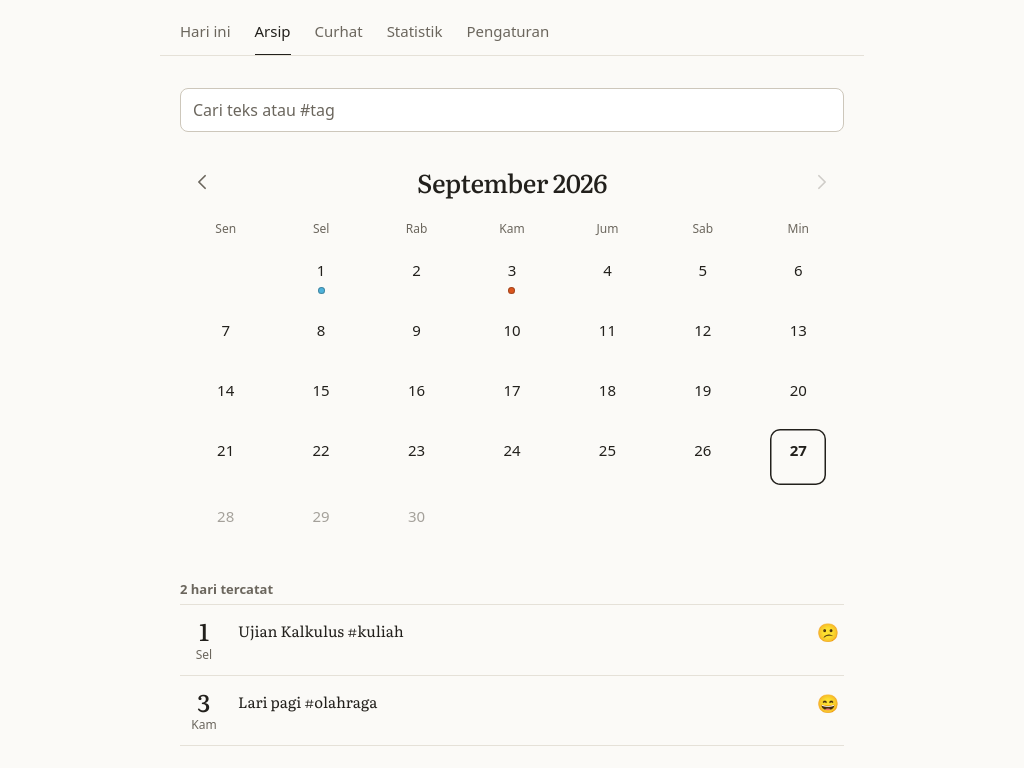
Scenario: search with no match
Type "zzz" into the search field labelled "Cari". click: (512, 110)
box: [180,88,844,132]
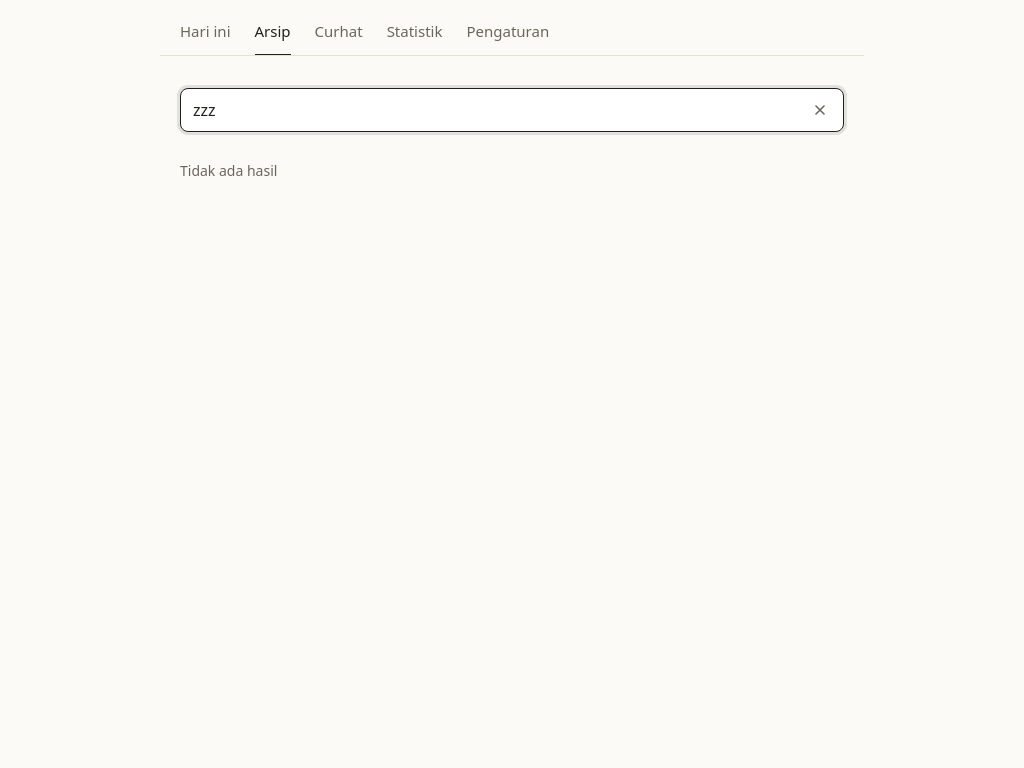
Expected: the text "Tidak ada hasil" is shown, [180,161,277,180]
